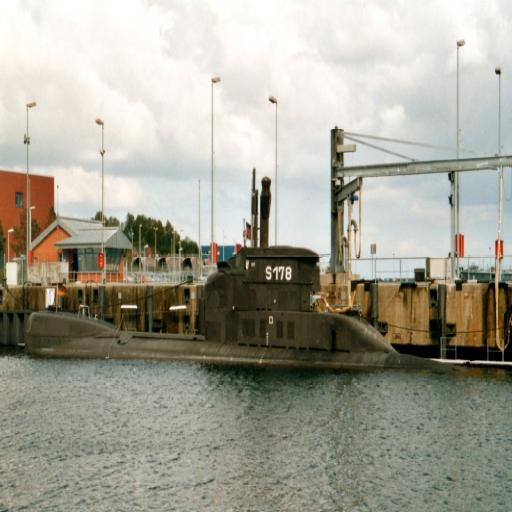submarine: (24, 166, 470, 370)
